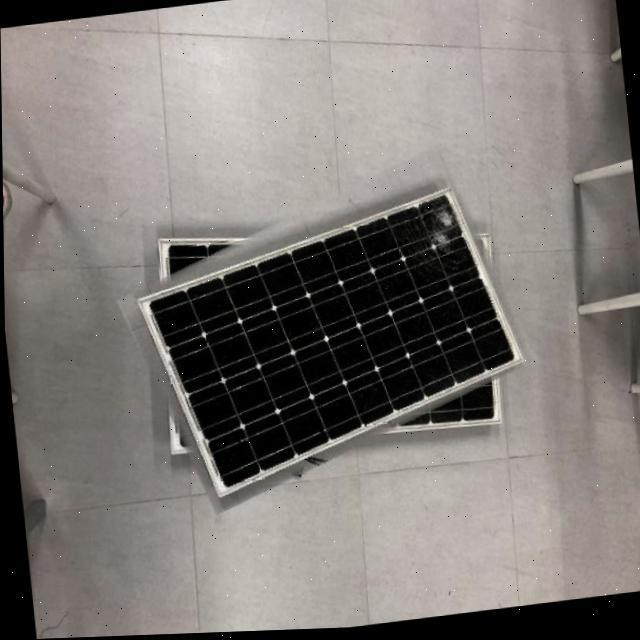Structural Damage: (396, 196, 463, 272)
